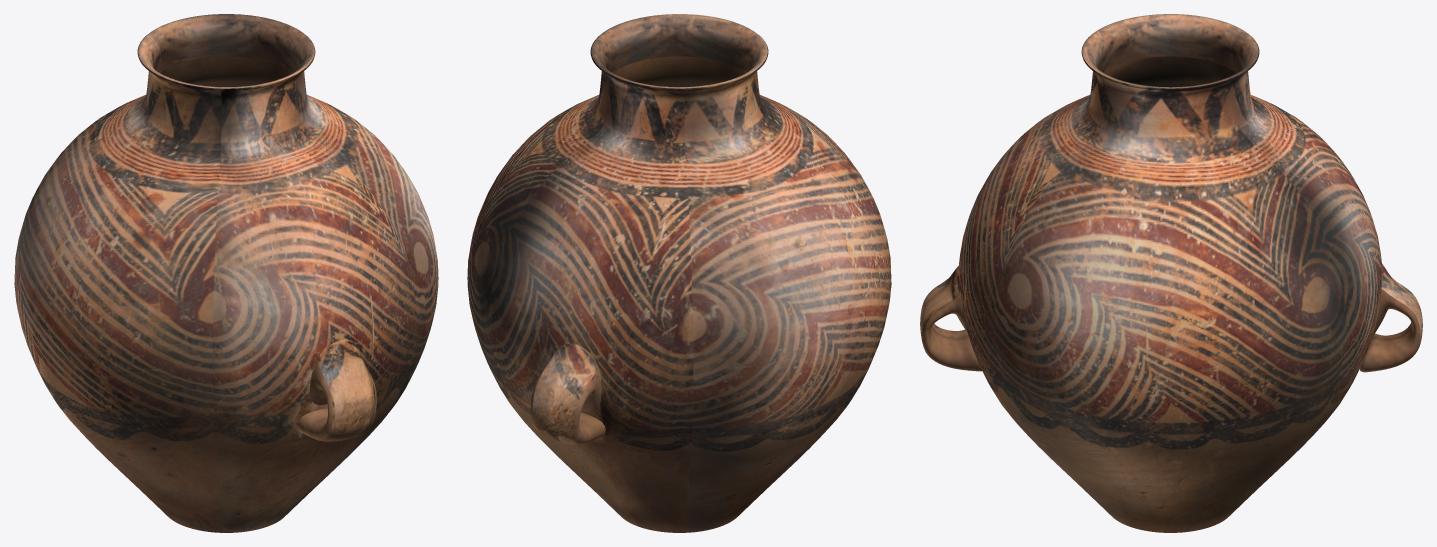
The model's file is vaso_chines_-_chinese_vase.glb.
The picture shows the model from 3 angles, left to right: view 1: azimuth 30°, elevation 25°; view 2: azimuth 150°, elevation 25°; view 3: azimuth 270°, elevation 25°; orthographic projection.
Parts seen in each view (by area): view 1: Sphere.001_1; view 2: Sphere.001_1; view 3: Sphere.001_1.
Part boxes in pixels (left/top/right/bottom): Sphere.001_1: left=14, top=14, right=438, bottom=532; Sphere.001_1: left=467, top=14, right=891, bottom=532; Sphere.001_1: left=920, top=14, right=1422, bottom=532.
Bounding box in the file's own units: 6.1 × 7.22 × 7.23.
Materials: 1 (1 with a texture image).
